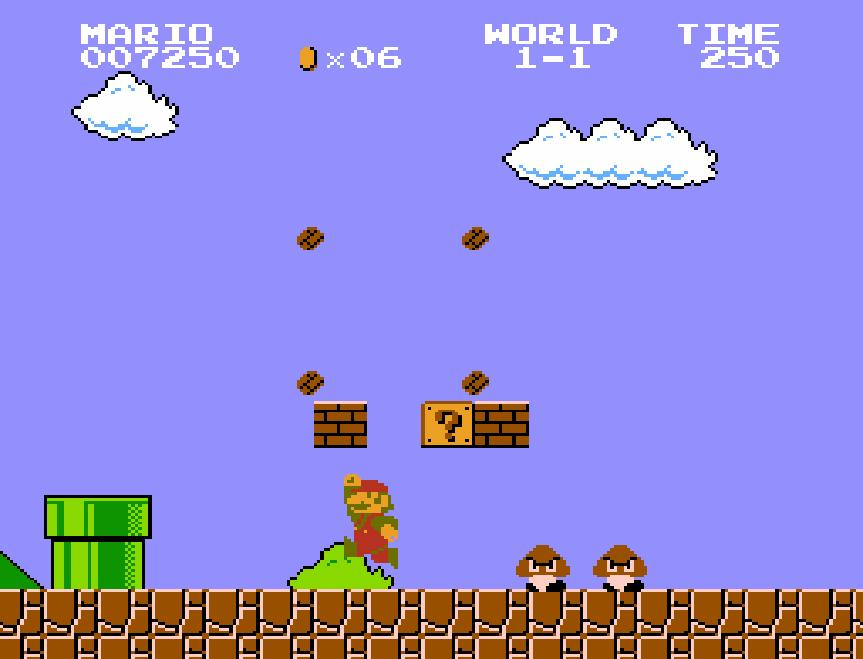big_mario: (342, 472, 400, 570)
